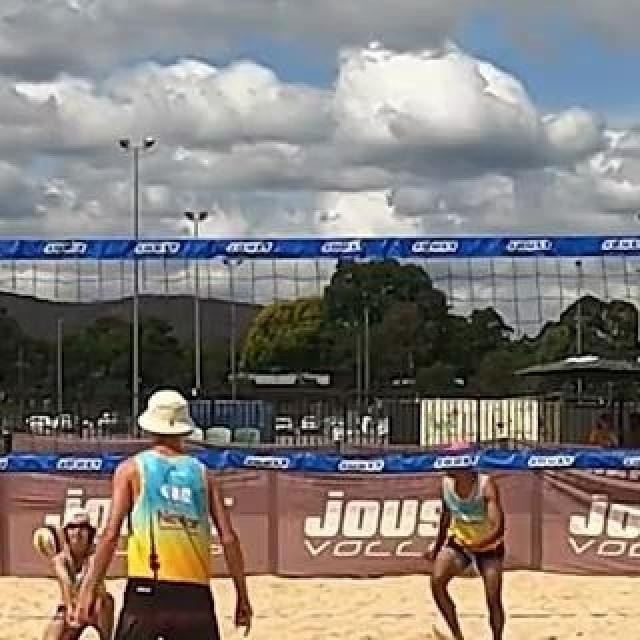volleyball: (31, 524, 63, 556)
